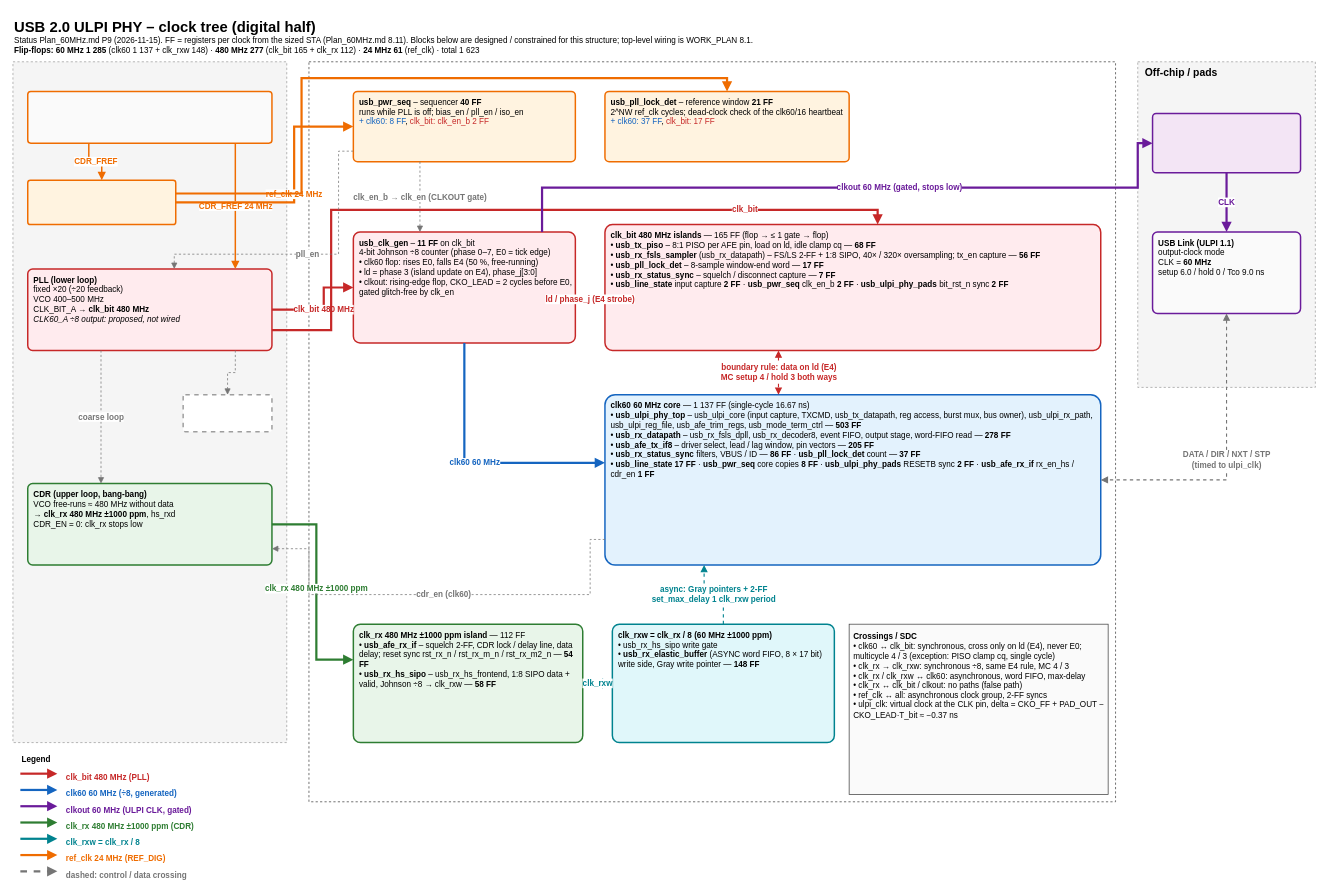
The diagram is 1328 pixels wide and 892 high, and some of its shapes have lost their labels. The box of each missing label's shape, as (x1, y1, x2, y2) in pixels:
AFE (analog, separate design): (12, 61, 287, 743)
BBSUD8F pad u_pad_clk (usb_ulpi_phy_pads) → PAD_ULPI_CLK: (1151, 112, 1301, 173)
CLK60_A 60 MHz (proposed): (182, 394, 272, 432)
Crystal oscillator / REFCLK buffer CDR_FREF = 24 MHz ±500 ppm: (27, 90, 272, 144)
Digital (this repo, X-FAB xh018 D_CELLS_JIHD): (308, 61, 1116, 802)
REF_DIG buffer → ref_clk 24 MHz: (27, 179, 176, 225)
